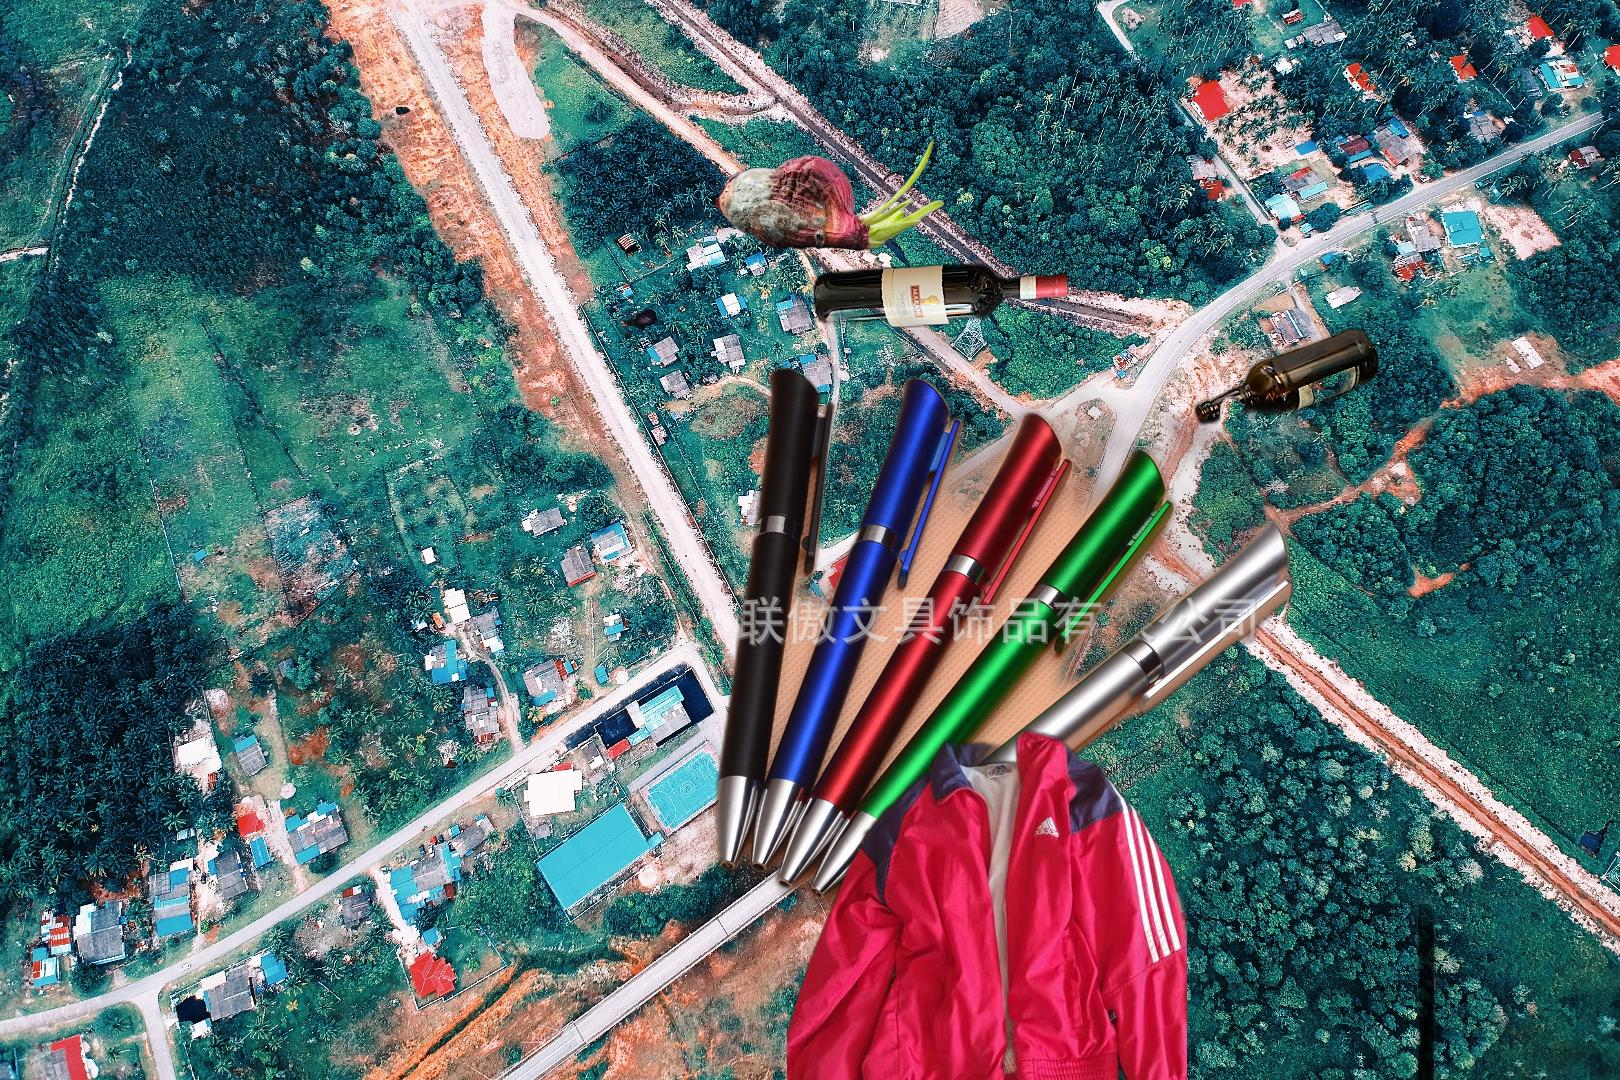biological: (712, 135, 946, 254)
clothes: (787, 724, 1187, 1080)
glass: (1190, 323, 1440, 777), (809, 256, 1072, 334)
penholder: (710, 297, 1320, 927), (1009, 832, 1620, 1080)
